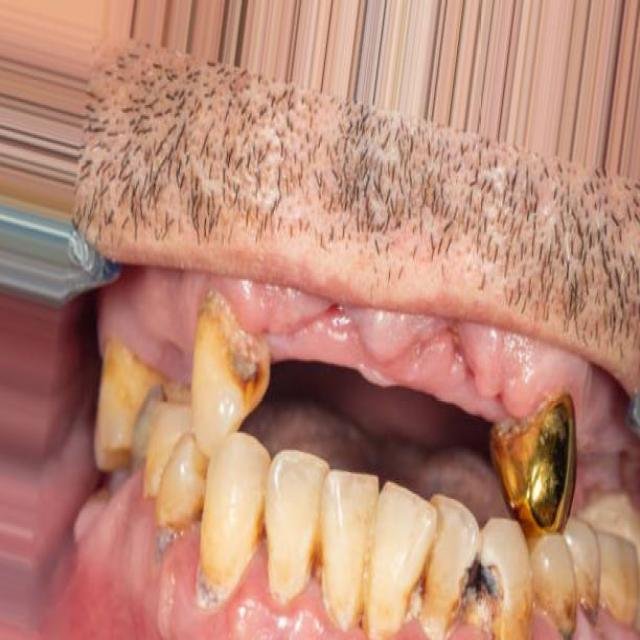caries: (439, 539, 510, 640)
